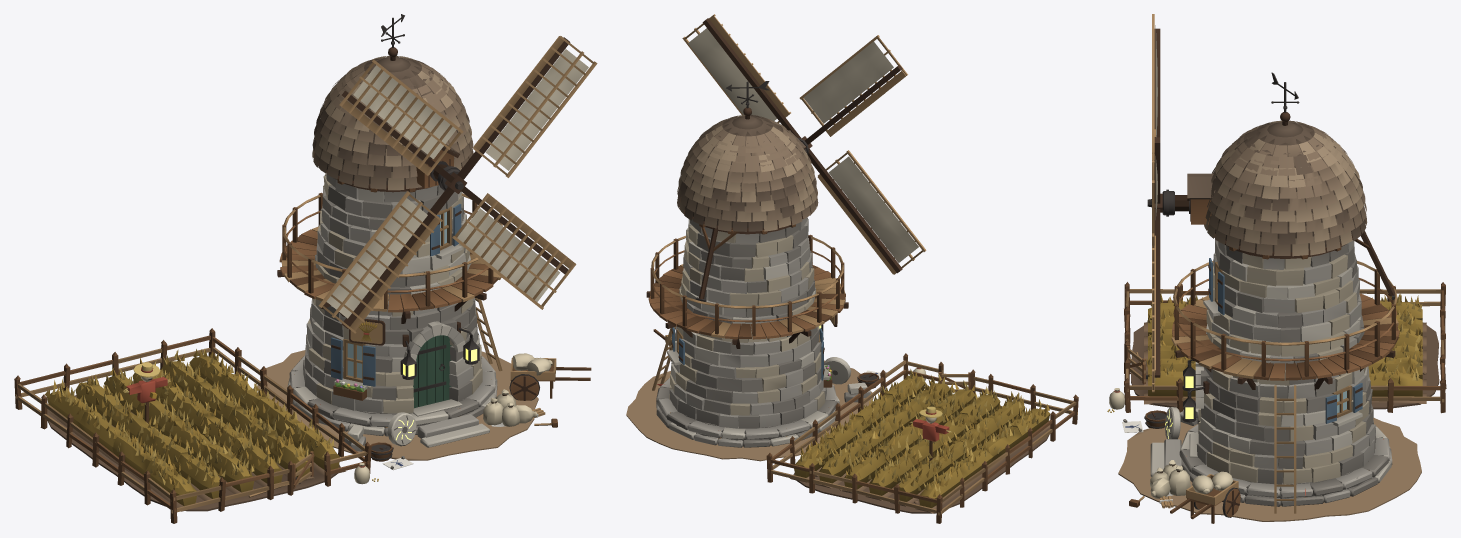
The model's file is mill.glb.
3 renders of one model, left to right at view 1: azimuth 30°, elevation 25°; view 2: azimuth 150°, elevation 25°; view 3: azimuth 270°, elevation 25°, orthographic. The views are drawn at different scales.
Parts seen in each view (by area): view 1: sails, stage_13_mesh, stage_03_mesh, stage_08_mesh, stage_04_mesh, stage_07_mesh, stage_05_mesh, stage_01_mesh, stage_02_mesh, stage_06_mesh, stage_11_mesh, stage_14_mesh (+25 smaller); view 2: sails, stage_03_mesh, stage_08_mesh, stage_04_mesh, stage_13_mesh, stage_07_mesh, stage_01_mesh, stage_02_mesh, stage_11_mesh, stage_12_mesh, wheat_20, wheat_12 (+23 smaller); view 3: stage_08_mesh, stage_03_mesh, stage_04_mesh, stage_07_mesh, stage_13_mesh, stage_01_mesh, stage_02_mesh, sails, stage_11_mesh, stage_09_mesh, stage_06_mesh, stage_05_mesh (+10 smaller).
Part boxes in pixels (left/top/right/bottom): sails: left=318, top=36, right=597, bottom=333; stage_13_mesh: left=14, top=328, right=591, bottom=523; stage_03_mesh: left=303, top=298, right=502, bottom=461; stage_08_mesh: left=312, top=47, right=473, bottom=190; stage_04_mesh: left=315, top=170, right=471, bottom=316; stage_07_mesh: left=277, top=192, right=502, bottom=323; stage_05_mesh: left=404, top=318, right=489, bottom=447; stage_01_mesh: left=257, top=350, right=557, bottom=470; stage_02_mesh: left=287, top=355, right=497, bottom=436; stage_06_mesh: left=331, top=204, right=462, bottom=400; stage_11_mesh: left=47, top=381, right=378, bottom=511; stage_14_mesh: left=349, top=14, right=479, bottom=379; sails: left=682, top=14, right=926, bottom=274; stage_03_mesh: left=652, top=326, right=879, bottom=428; stage_08_mesh: left=677, top=107, right=818, bottom=231; stage_04_mesh: left=679, top=213, right=815, bottom=342; stage_13_mesh: left=653, top=328, right=1078, bottom=523; stage_07_mesh: left=646, top=234, right=848, bottom=348; stage_01_mesh: left=626, top=360, right=886, bottom=461; stage_02_mesh: left=656, top=378, right=839, bottom=447; stage_11_mesh: left=790, top=367, right=1050, bottom=513; stage_12_mesh: left=824, top=357, right=951, bottom=460; wheat_20: left=819, top=438, right=863, bottom=483; wheat_12: left=868, top=450, right=912, bottom=495; stage_08_mesh: left=1204, top=112, right=1367, bottom=256; stage_03_mesh: left=1144, top=366, right=1376, bottom=513; stage_04_mesh: left=1206, top=239, right=1364, bottom=385; stage_07_mesh: left=1171, top=261, right=1399, bottom=390; stage_13_mesh: left=1124, top=282, right=1446, bottom=523; stage_01_mesh: left=1118, top=418, right=1421, bottom=521; stage_02_mesh: left=1179, top=424, right=1392, bottom=506; sails: left=1147, top=14, right=1162, bottom=392; stage_11_mesh: left=1107, top=322, right=1439, bottom=412; stage_09_mesh: left=1162, top=173, right=1395, bottom=299; stage_06_mesh: left=1203, top=258, right=1362, bottom=426; stage_05_mesh: left=1150, top=362, right=1210, bottom=476.
Bounding box in the file's own units: 12.96 × 11.03 × 8.27.
